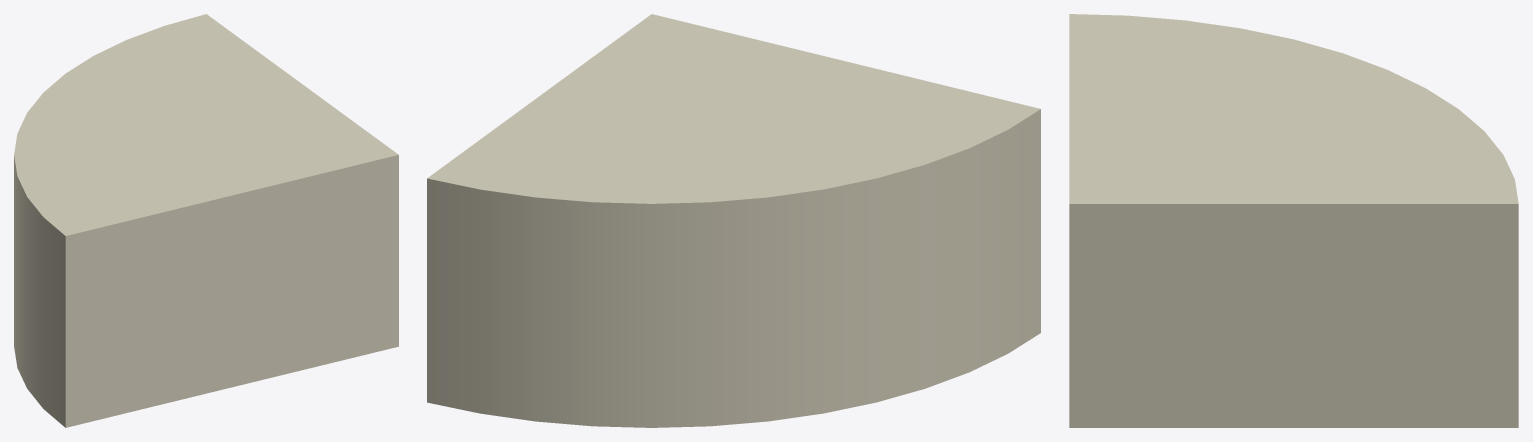
The model's file is tile083.fbx.
3 views of the same model, side by side, from view 1: azimuth 30°, elevation 25°; view 2: azimuth 150°, elevation 25°; view 3: azimuth 270°, elevation 25° (orthographic). The views are drawn at different scales.
Visible parts, largest first — view 1: tile083; view 2: tile083; view 3: tile083.
Boxes of the visible parts, x1,y1,x2,y2 form: tile083: (14,14,398,427); tile083: (427,14,1040,427); tile083: (1069,14,1518,427).
Size of the model in its own units: 10 by 5.5 by 10.
